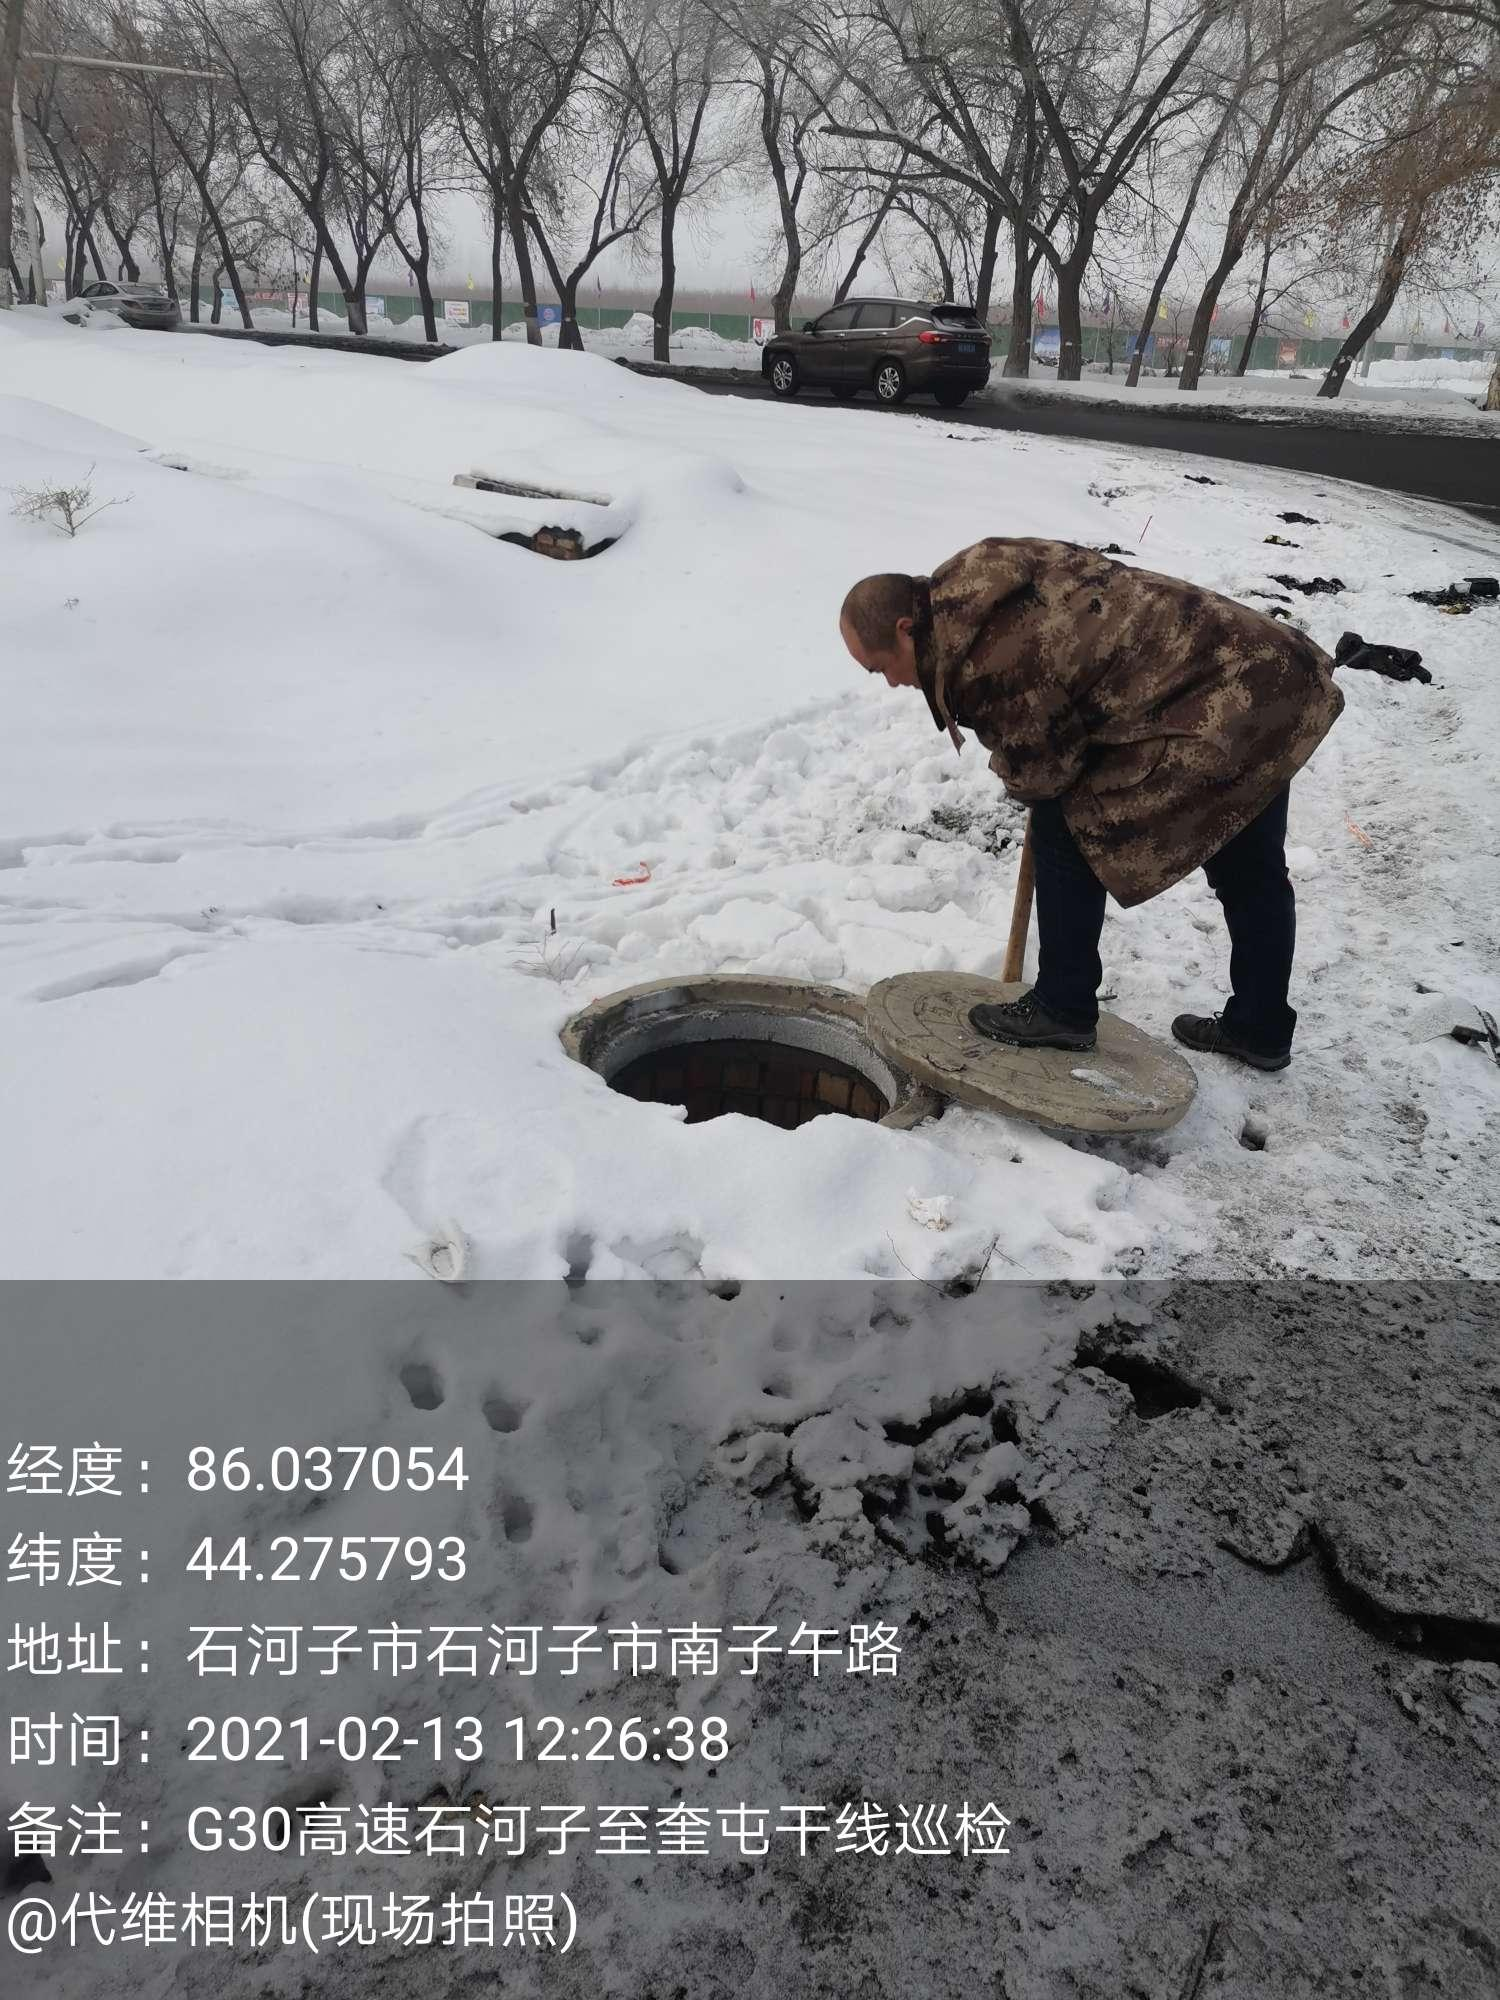wellcover: (454, 913, 1256, 1249)
